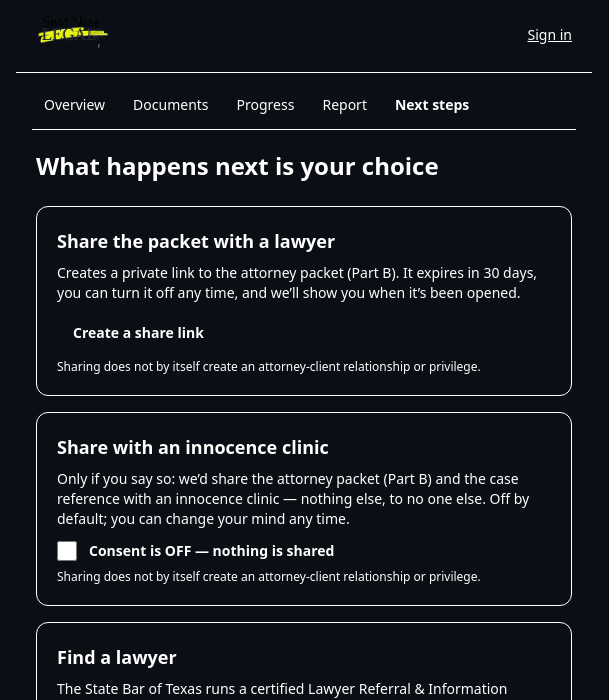
it: share the packet with a lawyer › after creating, the link can be copied, emailed, and turned off; the expiry is shown
The width and height of the screenshot is (609, 700).
Click the button with test id "share-create" at (138, 333), box left=57, top=315, right=220, bottom=351
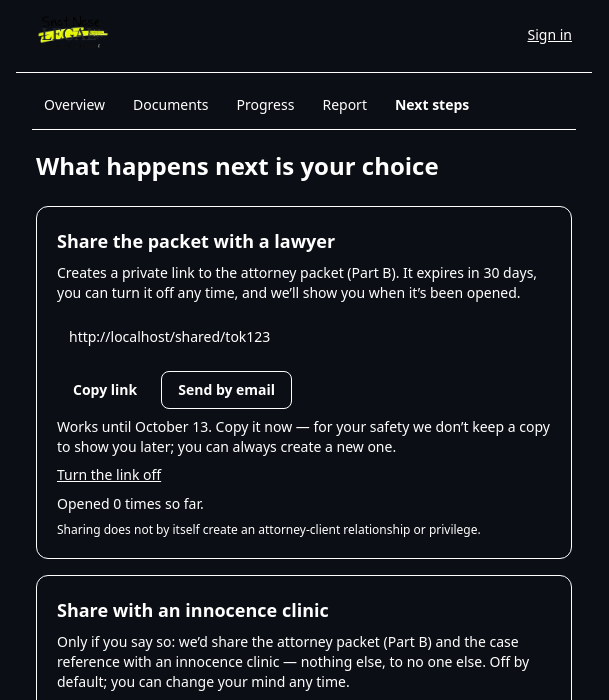
Result: the text with test id "share-url" shows "/shared/tok123" at left=69, top=327, right=270, bottom=346
Result: the element with test id "share-ready" shows "Works until October 13" at left=57, top=417, right=216, bottom=436
Click the button with test id "share-copy" at (105, 390), box left=57, top=371, right=153, bottom=409
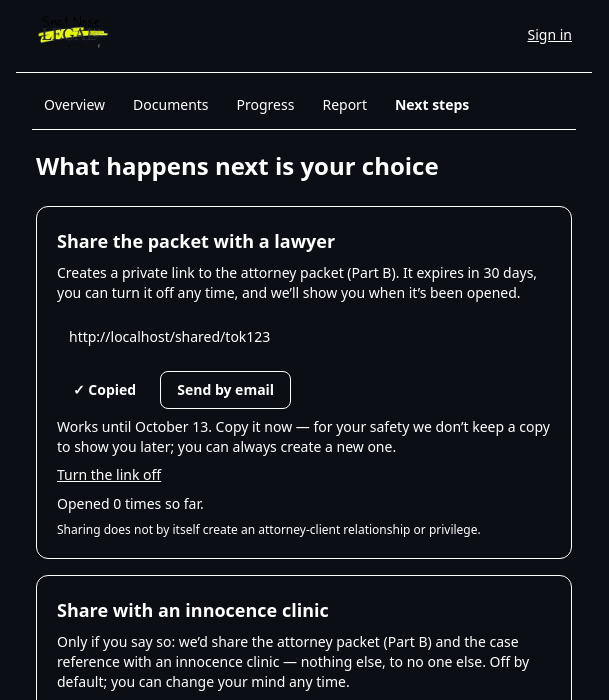
Result: the button "✓ Copied" is shown at left=57, top=371, right=152, bottom=409
Click the button with test id "share-revoke" at (109, 475), box left=57, top=465, right=161, bottom=485
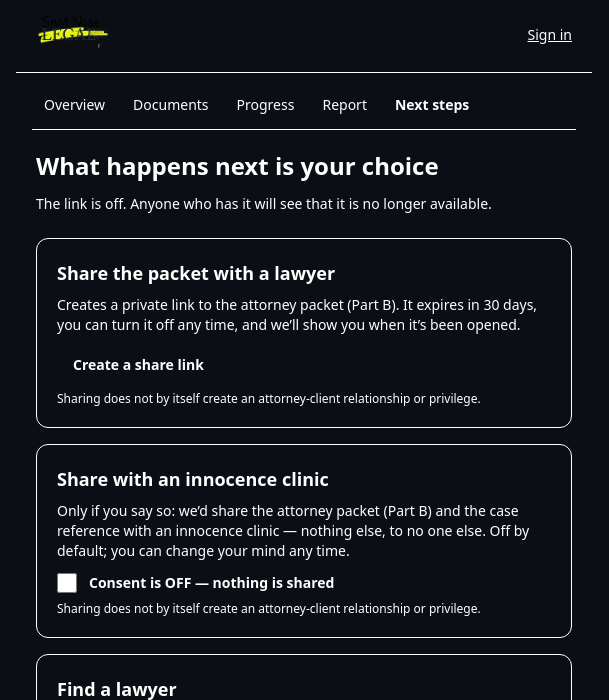
Result: the text "The link is off" is shown at left=36, top=194, right=492, bottom=213
Result: the text with test id "share-url" is gone
